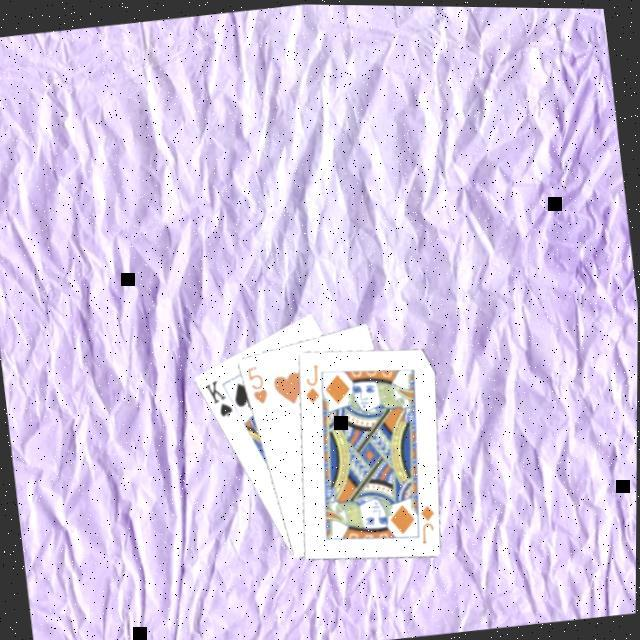5H: (241, 362, 270, 409)
JD: (298, 362, 324, 408), (413, 501, 439, 547)
KS: (198, 376, 234, 423)
